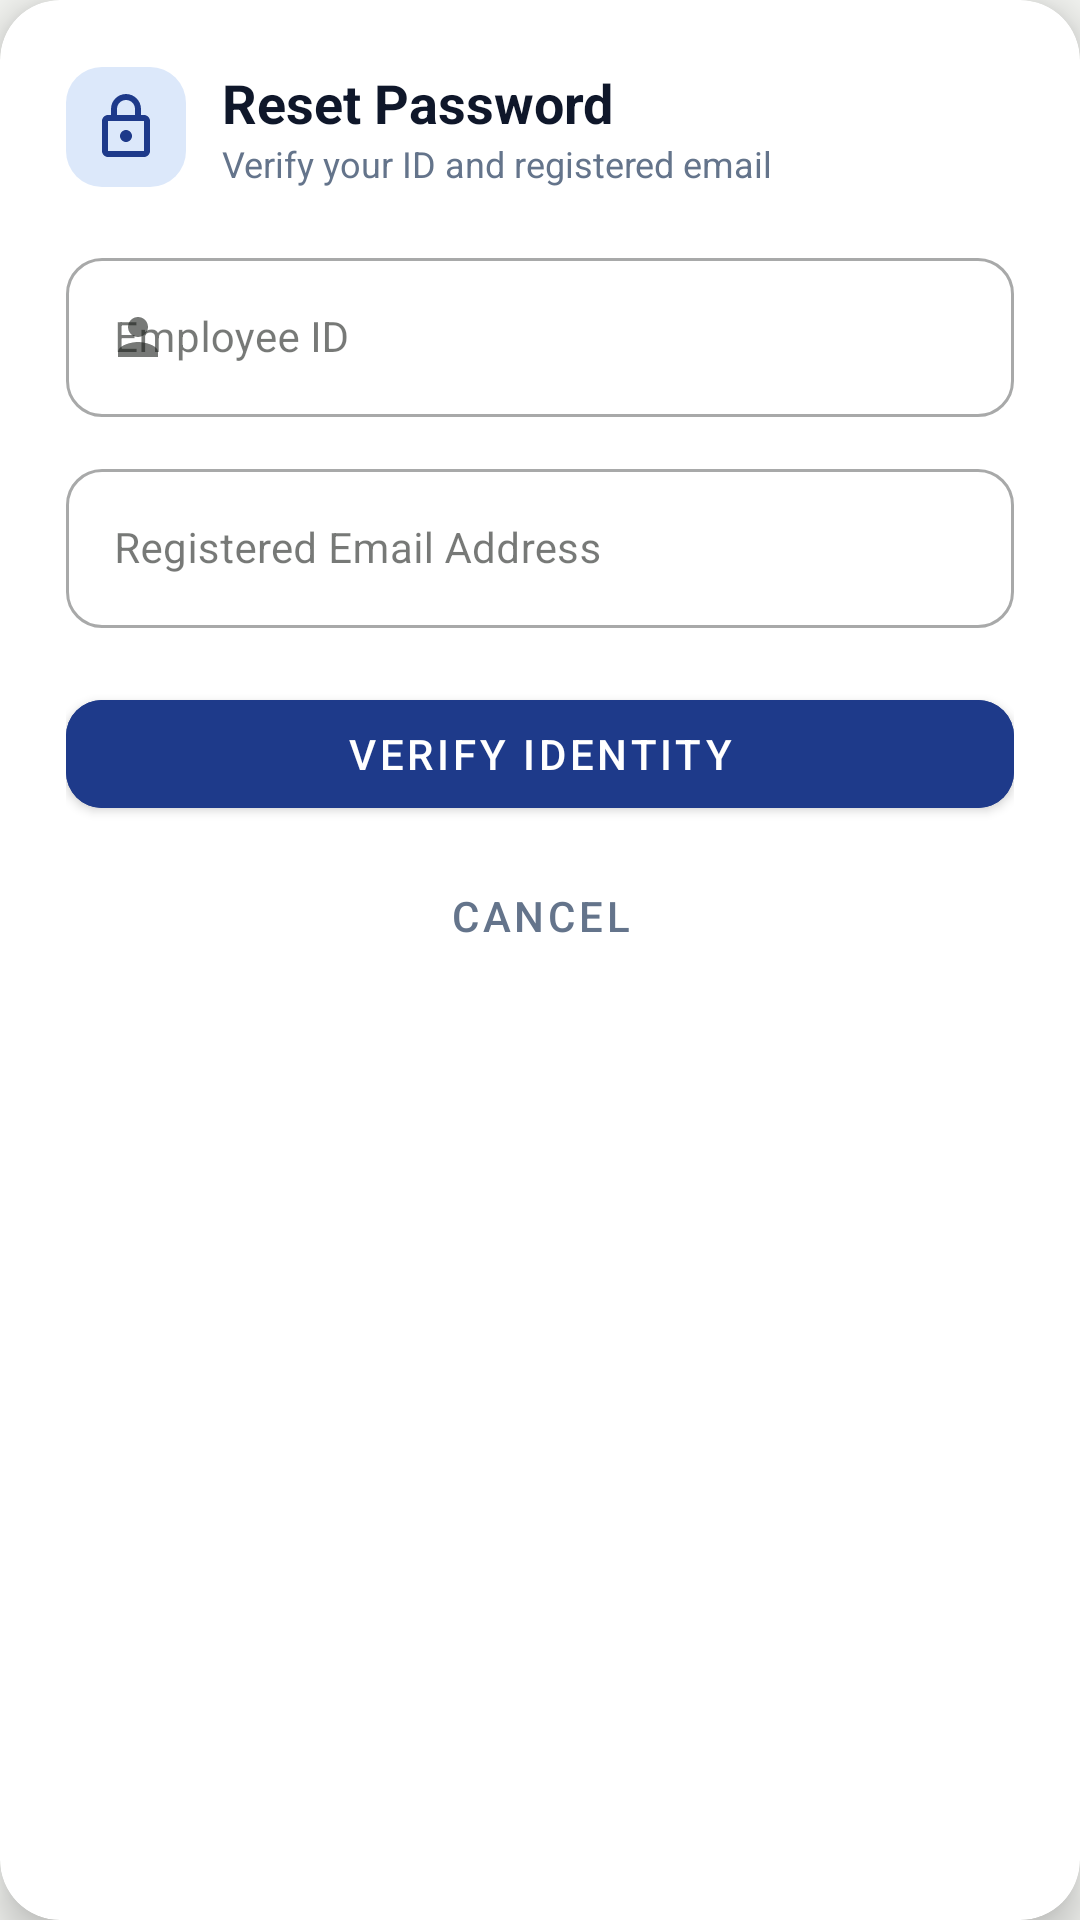

Named icons in this screenshot (1080*1920) and their centers, (x,y):
Recover Password: (126,127)
